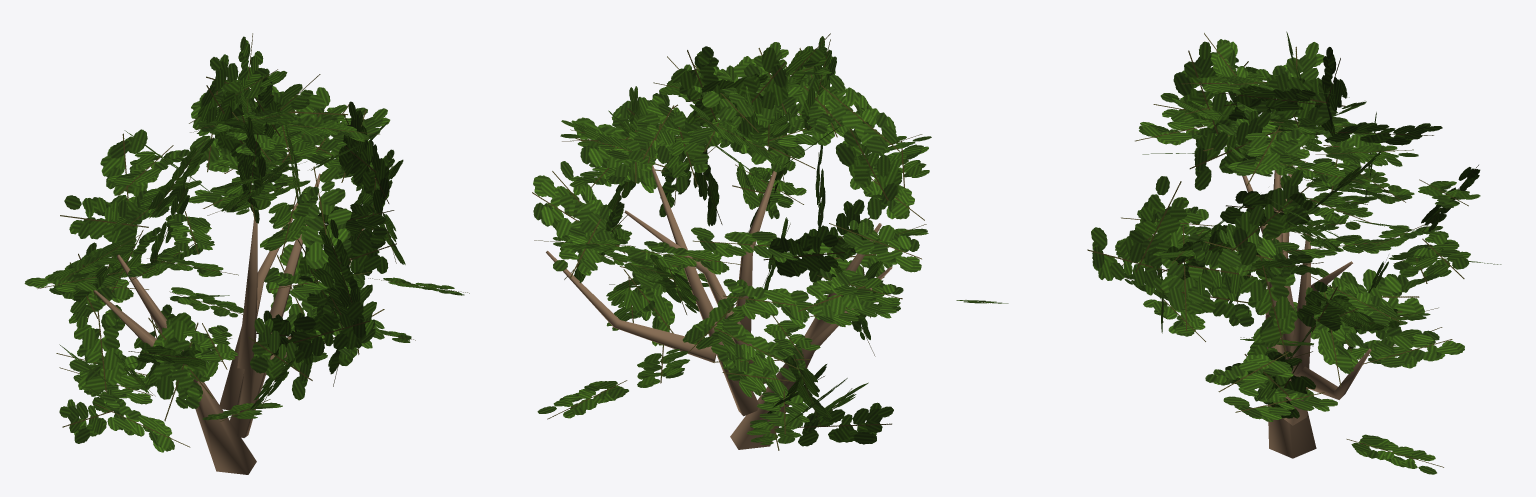
File: mid.glb
The picture shows the model from 3 angles, left to right: view 1: azimuth 30°, elevation 25°; view 2: azimuth 150°, elevation 25°; view 3: azimuth 270°, elevation 25°; orthographic projection. The views are drawn at different scales.
Parts seen in each view (by area): view 1: foliage.001, bark.001; view 2: foliage.001, bark.001; view 3: foliage.001, bark.001.
Boxes of the visible parts, x1,y1,x2,y2 form: foliage.001: (24,33,469,452); bark.001: (93,173,363,474); foliage.001: (532,33,1008,450); bark.001: (546,165,892,449); foliage.001: (1087,31,1501,474); bark.001: (1242,164,1371,458).
Size of the model in its own units: 23.37 by 23.13 by 21.74.
Materials: 2 (1 with a texture image).
